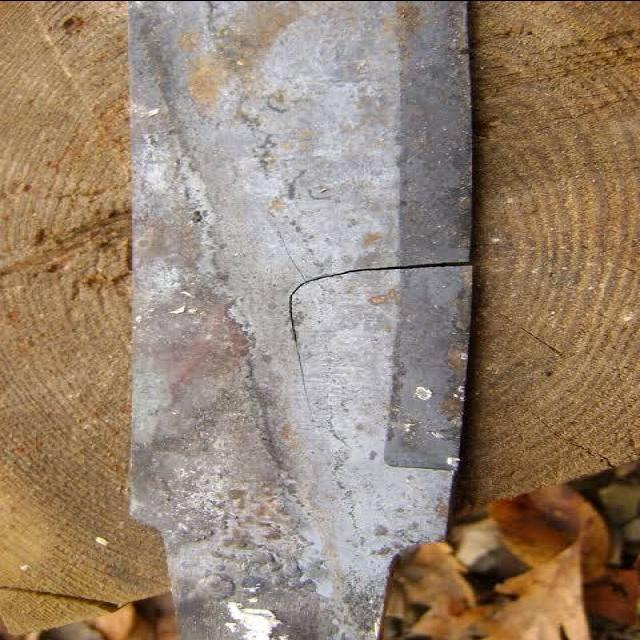Crack: (284, 259, 470, 414)
